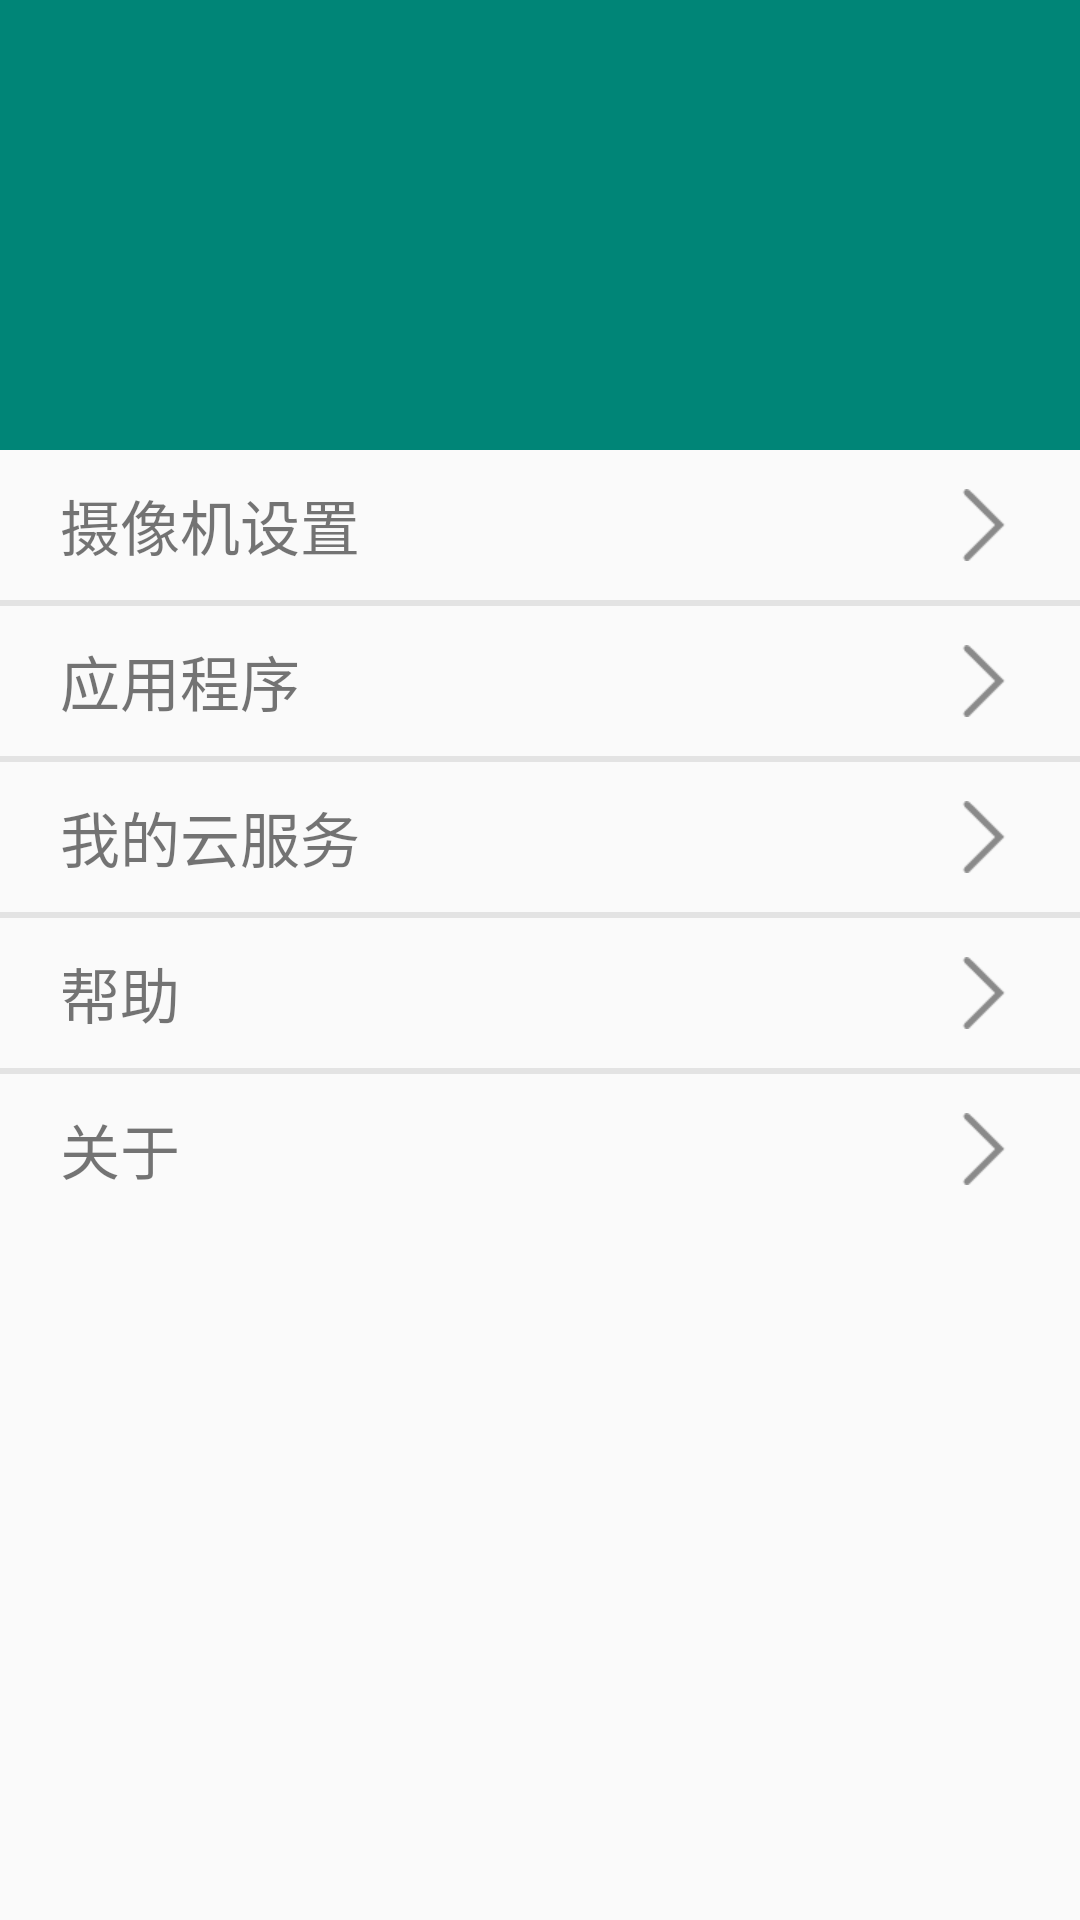

Icon click points for this 1080px×1920px phone screenshot, format (x,y):
arrow: (983,525), (983,681), (983,837), (983,993), (983,1149)
